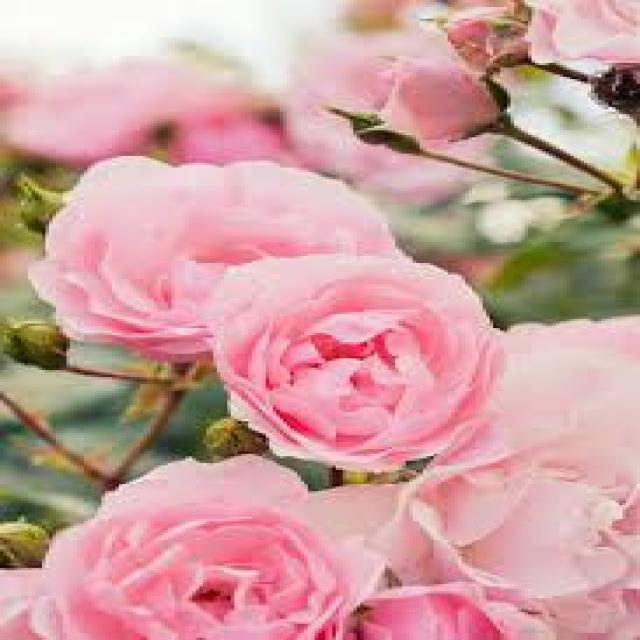rose: (184, 237, 560, 478)
